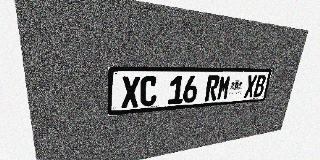1: (168, 76, 185, 104)
6: (182, 76, 199, 103)
B: (253, 75, 266, 97)
C: (140, 76, 158, 107)
M: (216, 75, 231, 100)
R: (204, 75, 220, 101)
X: (121, 76, 140, 108), (243, 75, 257, 98)
